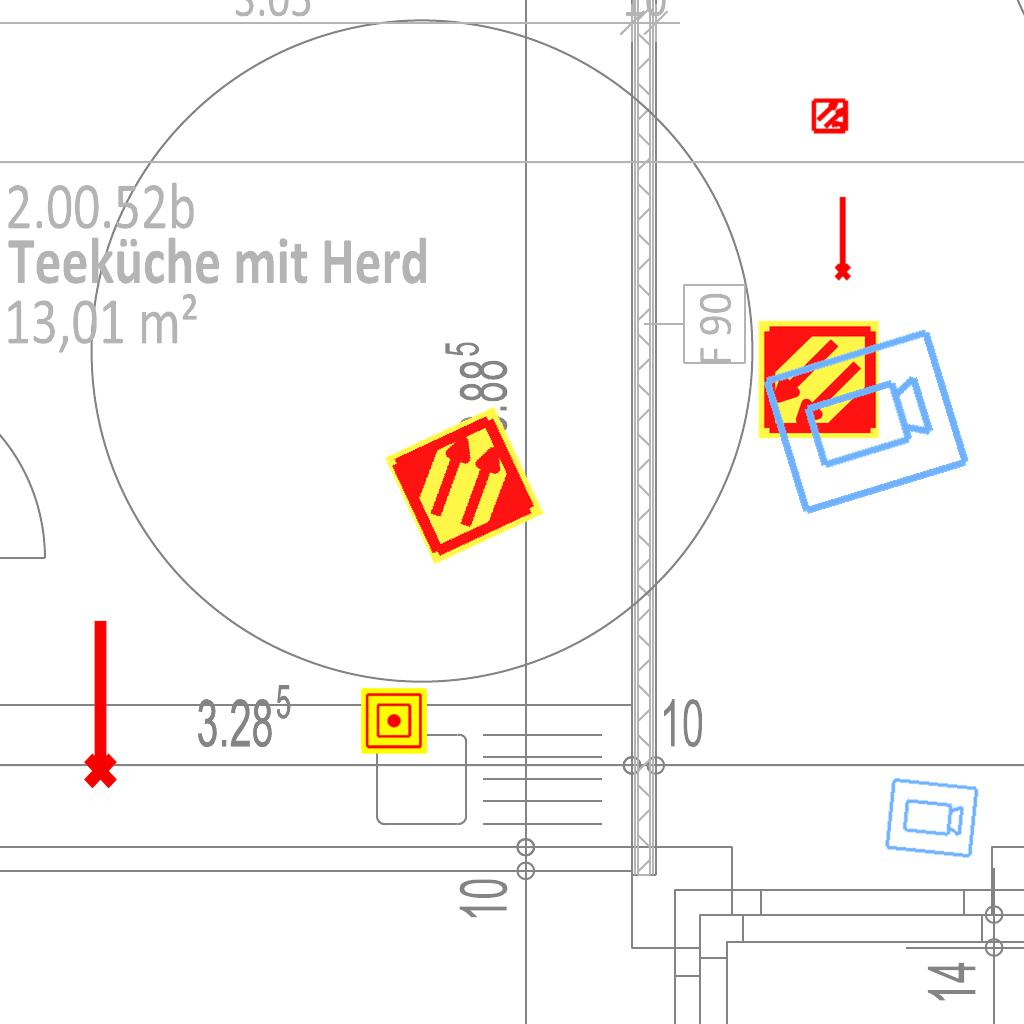ASR_Ansaugoeffnung: (75, 615, 121, 791), (830, 194, 853, 282)
ASR_Ansaugrauchmelder: (381, 402, 548, 569), (756, 317, 881, 442)
KFO_Kamera_mit_Festobjektiv: (756, 322, 976, 524), (882, 775, 981, 862)
NAM-Nichtautomatischer_Melder: (361, 688, 427, 754)
OT_Multisensormelder_(Kombination_RMO_WMD): (803, 88, 859, 144)
